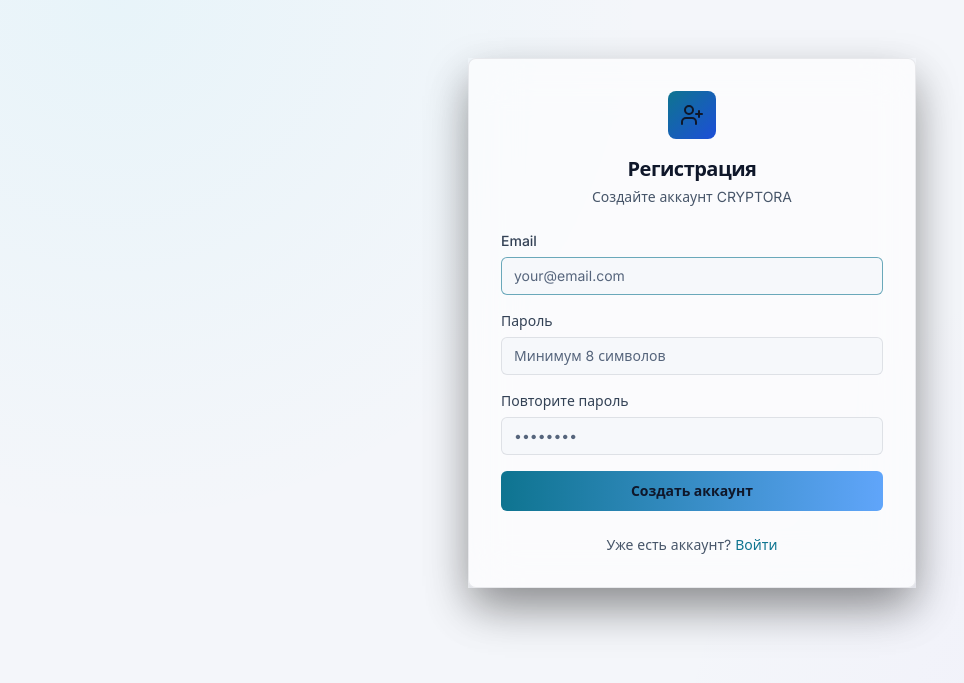
Test: step 1 — registration form › shows the server error on failure
Step 1. Type "alice@example.com" into the field labelled "Email" → (692, 276), box [501, 257, 883, 295]
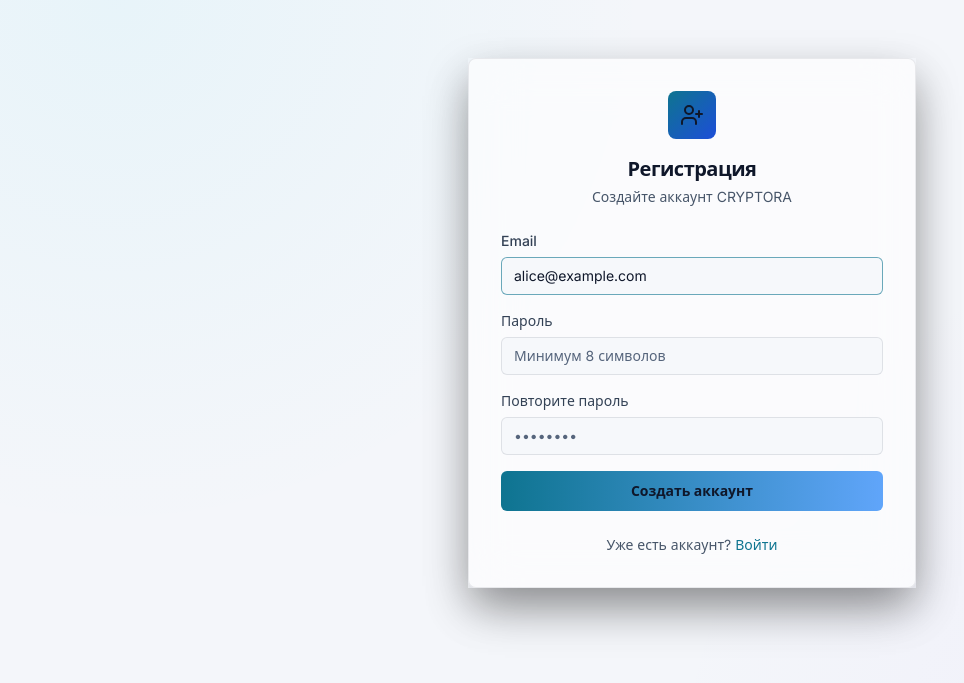
Step 2. Type "password1234" into the password field labelled "Пароль" → (692, 356), box [501, 337, 883, 375]
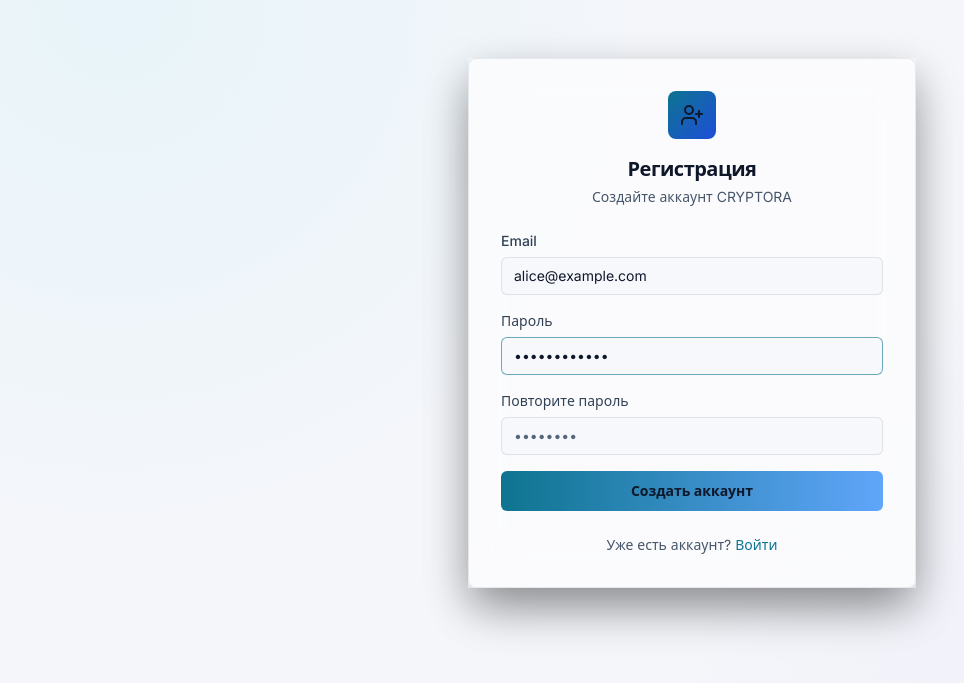
Step 3. Type "password1234" into the password field labelled "Повторите пароль" → (692, 436), box [501, 417, 883, 455]
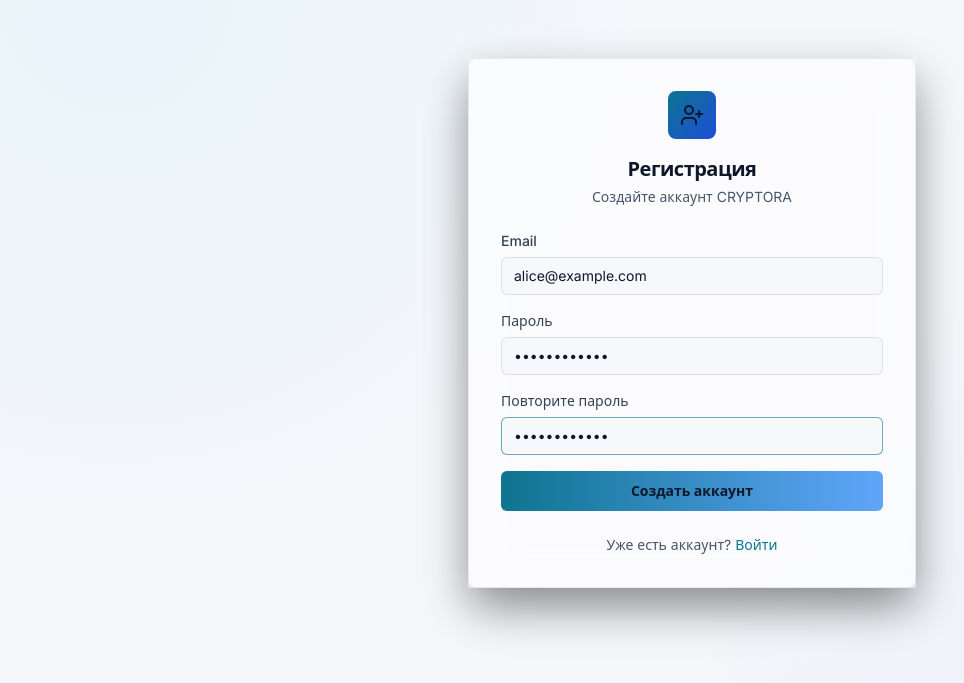
Step 4. Click the button "Создать аккаунт" → (692, 491), box [501, 471, 883, 511]
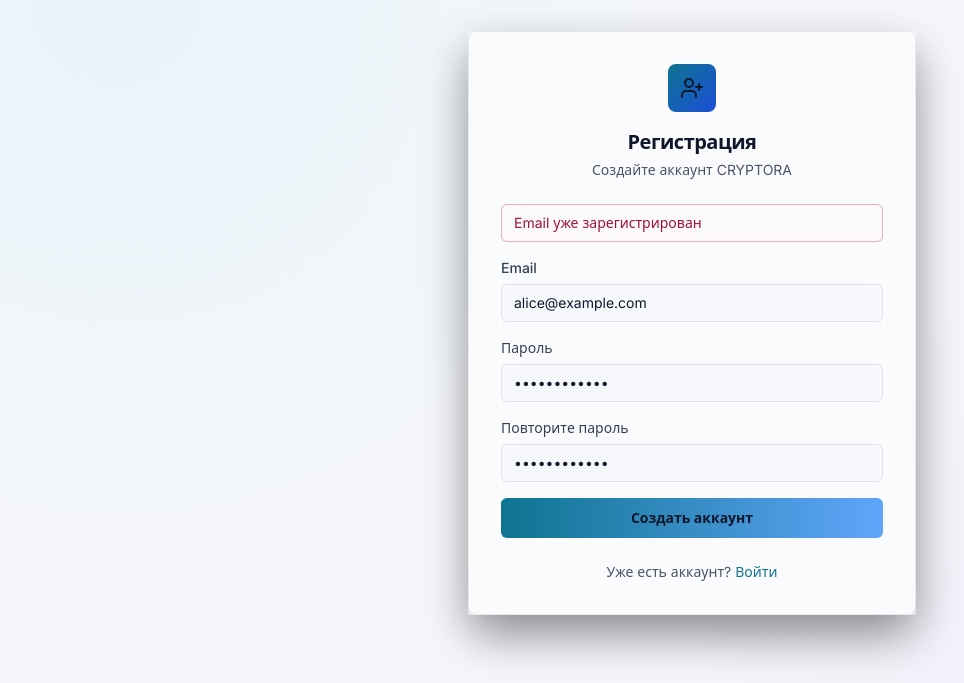
Expected: the text "Email уже зарегистрирован" is shown, [501, 204, 883, 242]
